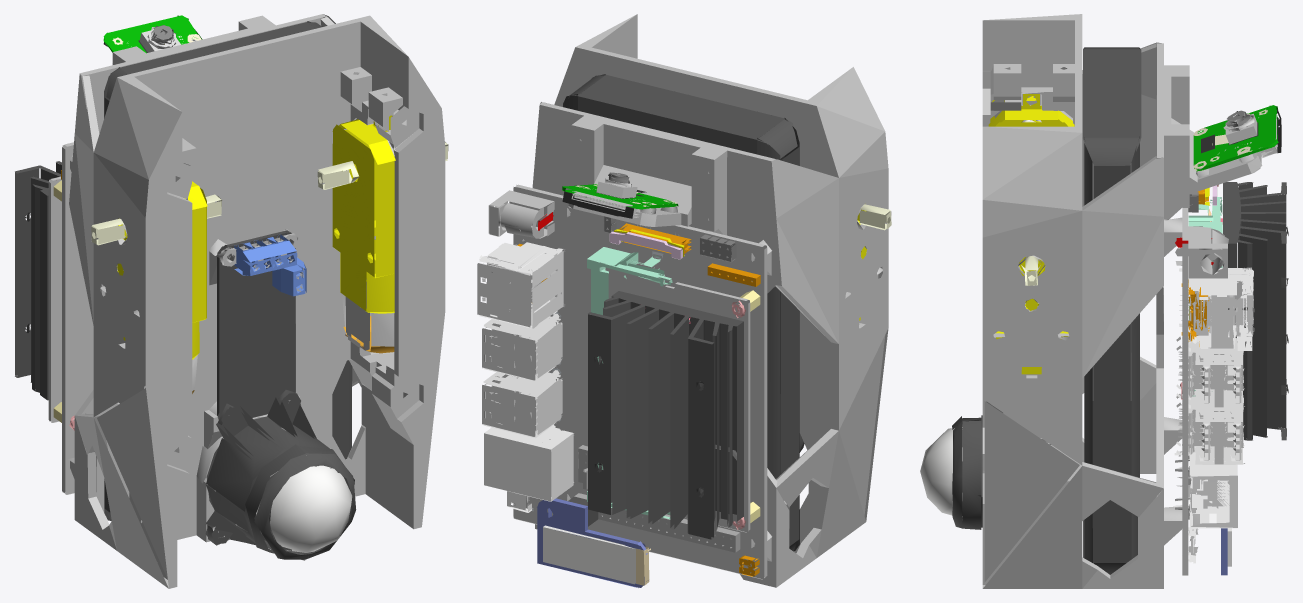
File: JetBot-v3-Chassis.dae
The picture shows the model from 3 angles, left to right: view 1: azimuth 30°, elevation 25°; view 2: azimuth 150°, elevation 25°; view 3: azimuth 270°, elevation 25°; orthographic projection. The views are drawn at different scales.
Visible parts, largest first — view 1: Caster_1-inch_v5_1_21.004; view 2: Caster_1-inch_v5_1_21.004; view 3: Caster_1-inch_v5_1_21.004.
Boxes of the visible parts, x1,y1,x2,y2 form: Caster_1-inch_v5_1_21.004: [15, 14, 448, 588]; Caster_1-inch_v5_1_21.004: [477, 14, 891, 587]; Caster_1-inch_v5_1_21.004: [920, 14, 1288, 588].
Size of the model in its own units: 106 by 99.64 by 138.
